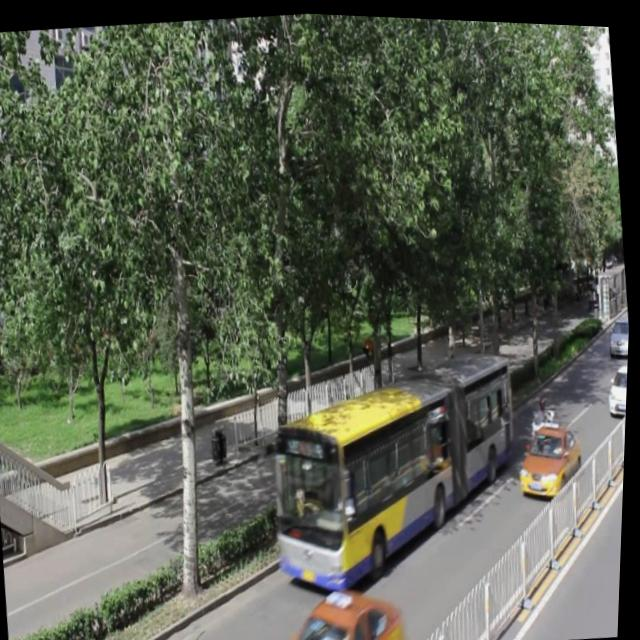car: (285, 577, 408, 640), (516, 414, 588, 496), (604, 355, 630, 410)
van: (262, 338, 532, 599)
